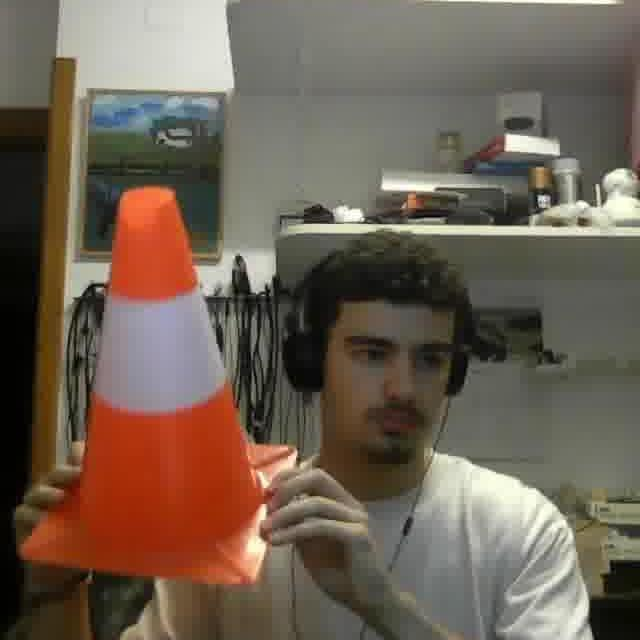NO-Hardhat: (305, 226, 472, 313)
NO-Mask: (332, 396, 449, 465)
NO-Safety Vest: (226, 465, 513, 640)
Person: (21, 184, 615, 640)
Safety Cone: (19, 186, 297, 583)
